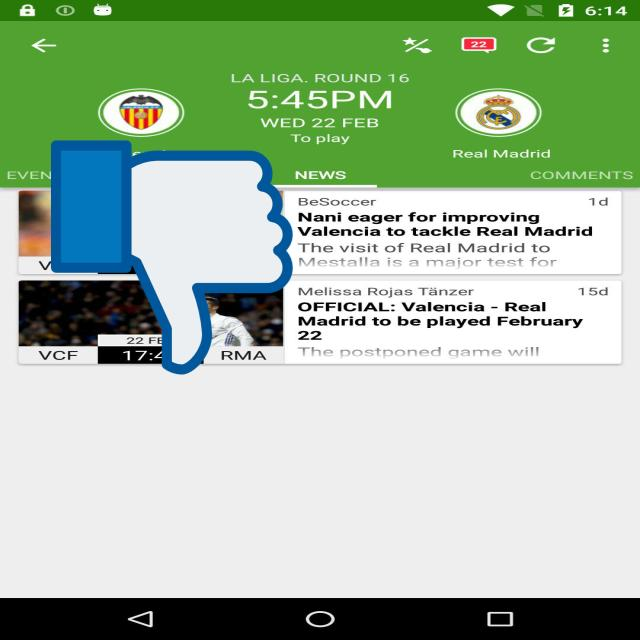obstruction: (51, 135, 293, 380)
